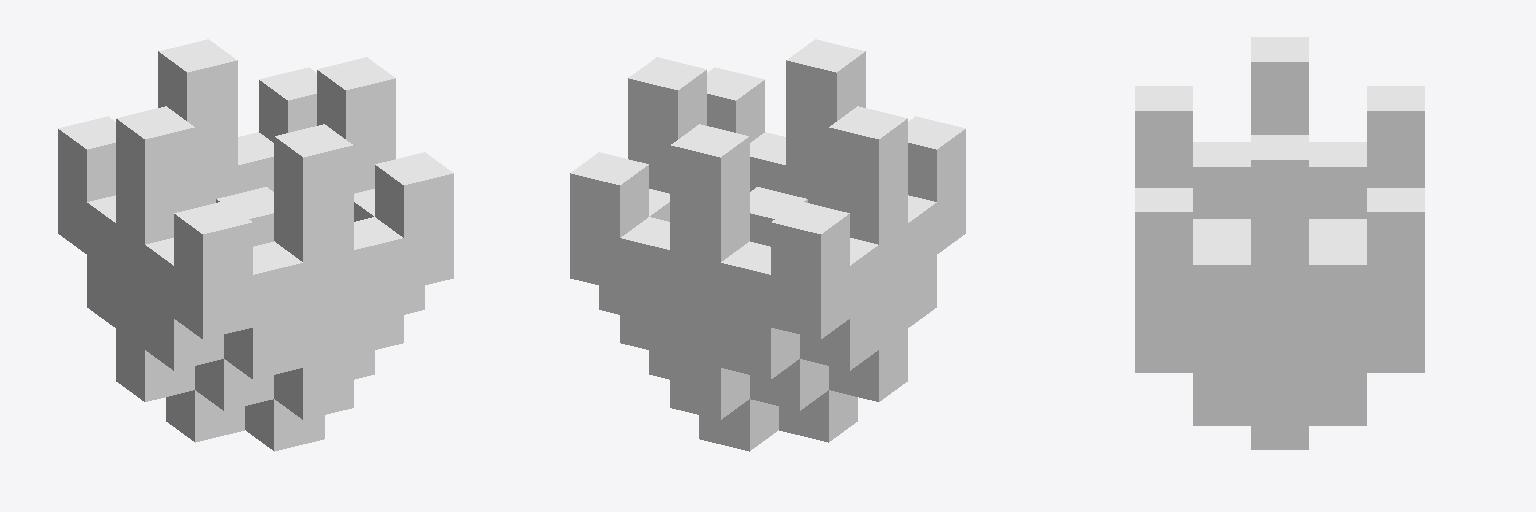
Rendered from Mushroom6_L.obj.
3 views of the same model, side by side, from view 1: azimuth 30°, elevation 25°; view 2: azimuth 150°, elevation 25°; view 3: azimuth 270°, elevation 25° (orthographic).
Parts seen in each view (by area): view 1: Mushroom6_L; view 2: Mushroom6_L; view 3: Mushroom6_L.
Boxes of the visible parts, x1,y1,x2,y2 form: Mushroom6_L: [58, 39, 453, 451]; Mushroom6_L: [570, 39, 965, 451]; Mushroom6_L: [1135, 37, 1424, 449].
Bounding box in the file's own units: 0.5 × 0.6 × 0.5.